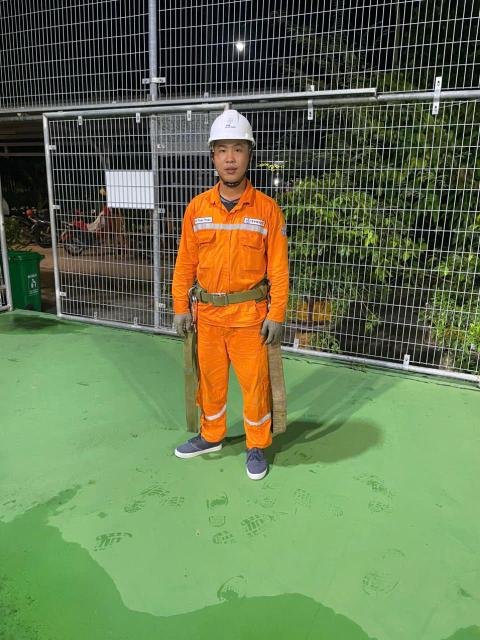gloves: (252, 304, 285, 346), (179, 306, 202, 340)
harness: (184, 266, 286, 320)
helmet: (199, 98, 260, 162)
shoes: (162, 427, 232, 465), (239, 435, 271, 490)
